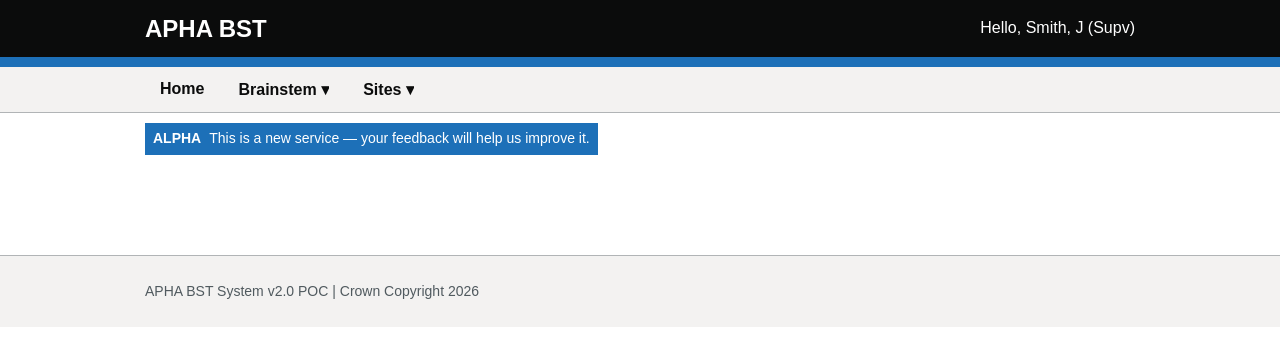
Test: Layout › clicking "Brainstem" reveals "Add Training" and "Manage Trainers"
Click the button "Brainstem ▾" at [284, 90], box 224,72 -> 344,108
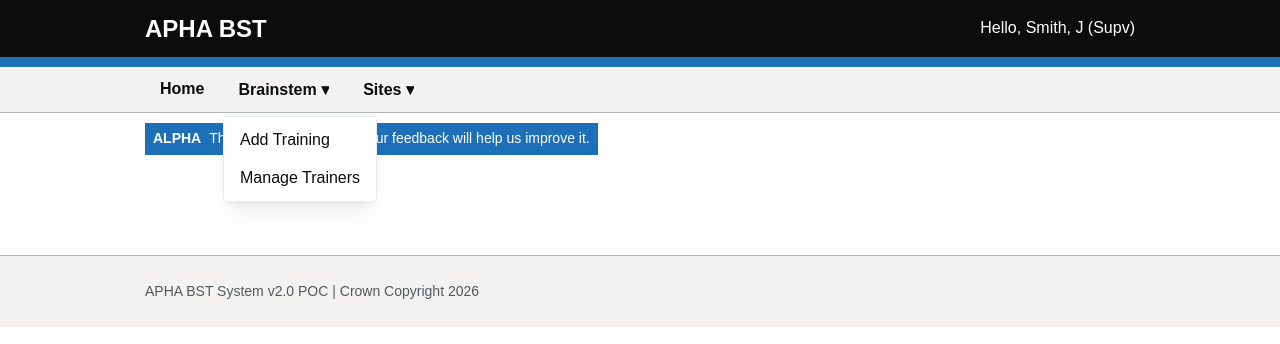
Now the text "Add Training" is shown, box 240,130 -> 330,147
Now the text "Manage Trainers" is shown, box 240,165 -> 361,190
